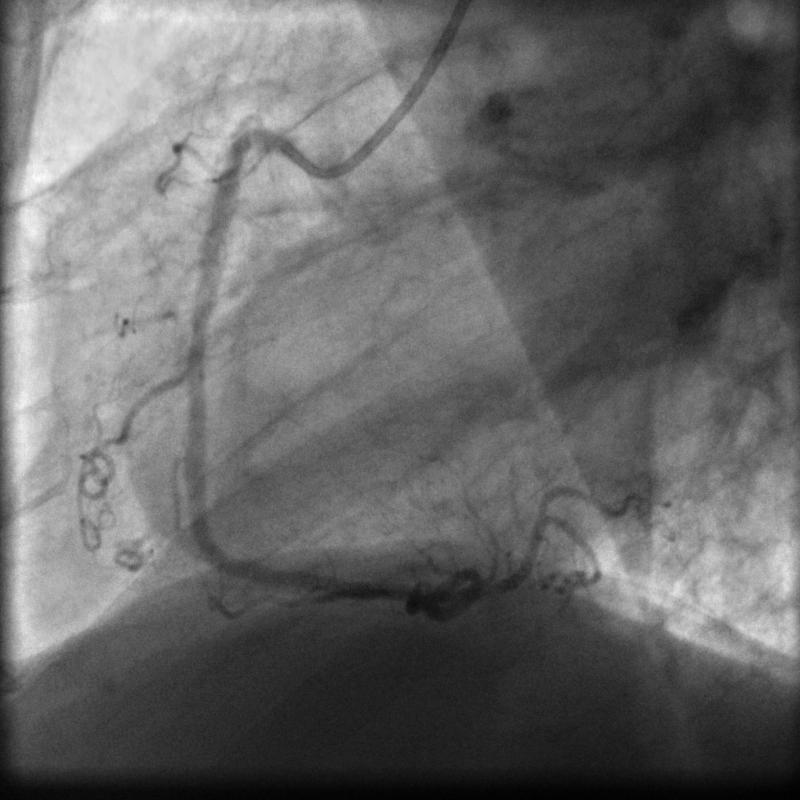Stenosis: (356, 568, 411, 619)
